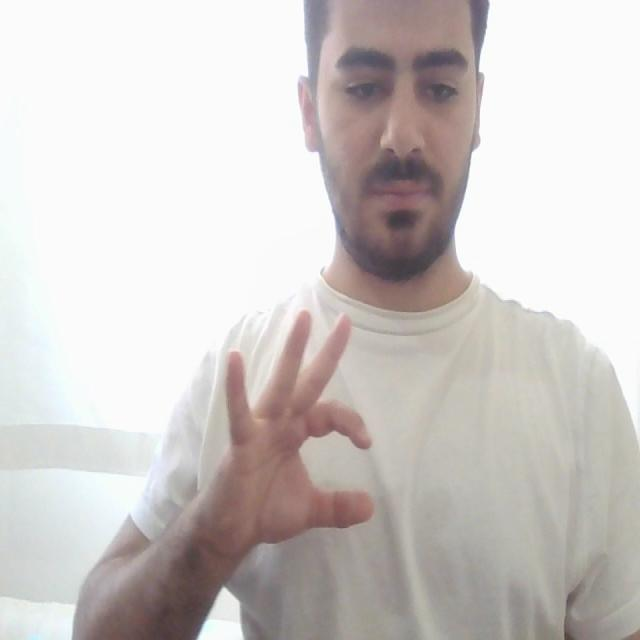Tuvalet: (168, 276, 400, 576)
